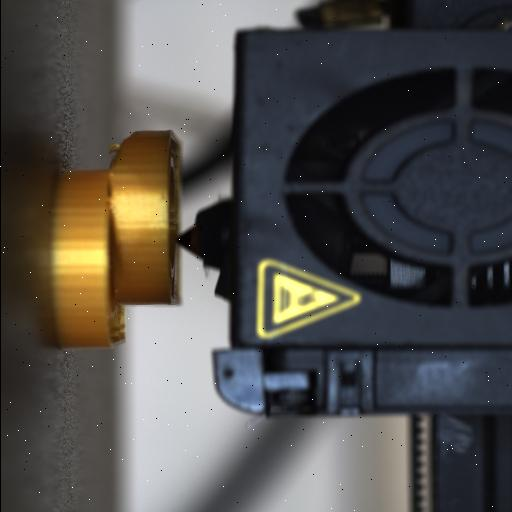layer_shift: (102, 134, 136, 352)
